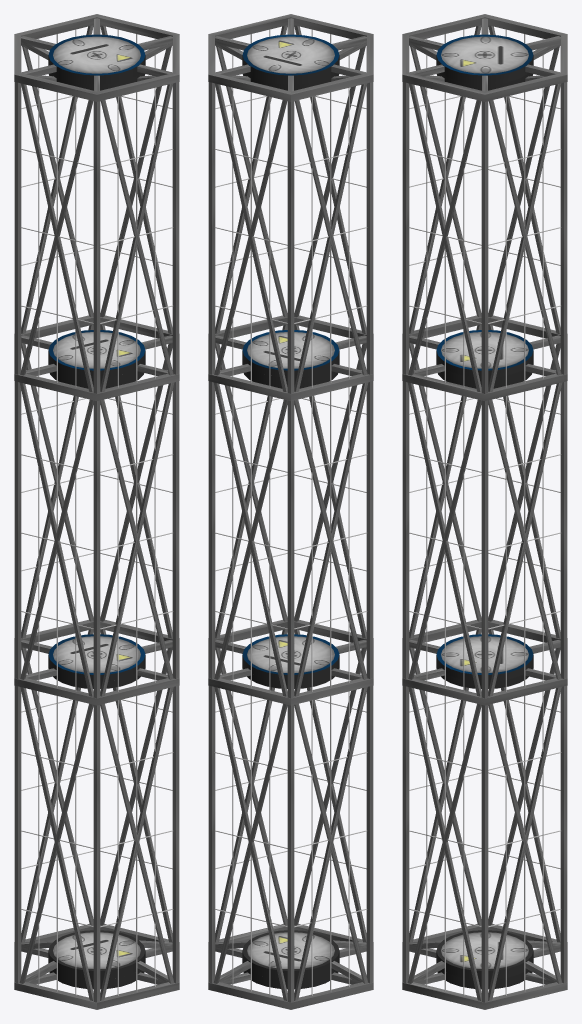
Rendered from TrippleHexTruss.FBX.
The picture shows the model from 3 angles, left to right: view 1: azimuth 30°, elevation 25°; view 2: azimuth 150°, elevation 25°; view 3: azimuth 270°, elevation 25°; orthographic projection.
Parts seen in each view (by area): view 1: Pole003, EndCap007, EndBeam004, EndCap012, EndCap022, EndBeam009, EndCap023, EndBeam005, EndBeam008, Pole012, Pole016, Pole015 (+57 smaller); view 2: Pole003, EndCap007, EndBeam004, EndCap012, EndCap022, EndBeam009, EndCap023, EndBeam005, EndBeam008, Pole004, Pole013, Pole005 (+55 smaller); view 3: Pole006, EndCap007, EndBeam004, EndCap012, EndCap022, EndBeam009, EndCap023, EndBeam005, EndBeam008, Pole005, Pole011, Pole015 (+57 smaller).
Part boxes in pixels (x1,y1,x2,y2): Pole003: (14, 82, 21, 983); EndCap007: (48, 34, 145, 84); EndBeam004: (14, 14, 179, 101); EndCap012: (48, 930, 145, 979); EndCap022: (48, 634, 145, 681); EndBeam009: (14, 620, 179, 705); EndCap023: (48, 330, 145, 377); EndBeam005: (14, 315, 179, 400); EndBeam008: (14, 924, 179, 1009); Pole012: (93, 400, 100, 698); Pole016: (93, 705, 100, 1002); Pole015: (172, 685, 179, 983); Pole003: (366, 82, 373, 983); EndCap007: (242, 34, 339, 84); EndBeam004: (208, 14, 373, 101); EndCap012: (242, 930, 339, 979); EndCap022: (242, 634, 339, 681); EndBeam009: (208, 620, 373, 705); EndCap023: (242, 330, 339, 377); EndBeam005: (208, 315, 373, 400); EndBeam008: (208, 924, 373, 1009); Pole004: (287, 400, 294, 698); Pole013: (287, 705, 294, 1002); Pole005: (208, 381, 215, 678); Pole006: (481, 101, 488, 1002); EndCap007: (436, 34, 533, 84); EndBeam004: (402, 14, 567, 101); EndCap012: (436, 930, 533, 979); EndCap022: (436, 634, 533, 681); EndBeam009: (402, 620, 567, 705); EndCap023: (436, 330, 533, 377); EndBeam005: (402, 315, 567, 400); EndBeam008: (402, 924, 567, 1009); Pole005: (560, 381, 567, 678); Pole011: (402, 381, 409, 678); Pole015: (402, 685, 409, 983).
Size of what is drawn, in the model's own units: 2.46 by 2.13 by 13.01.
